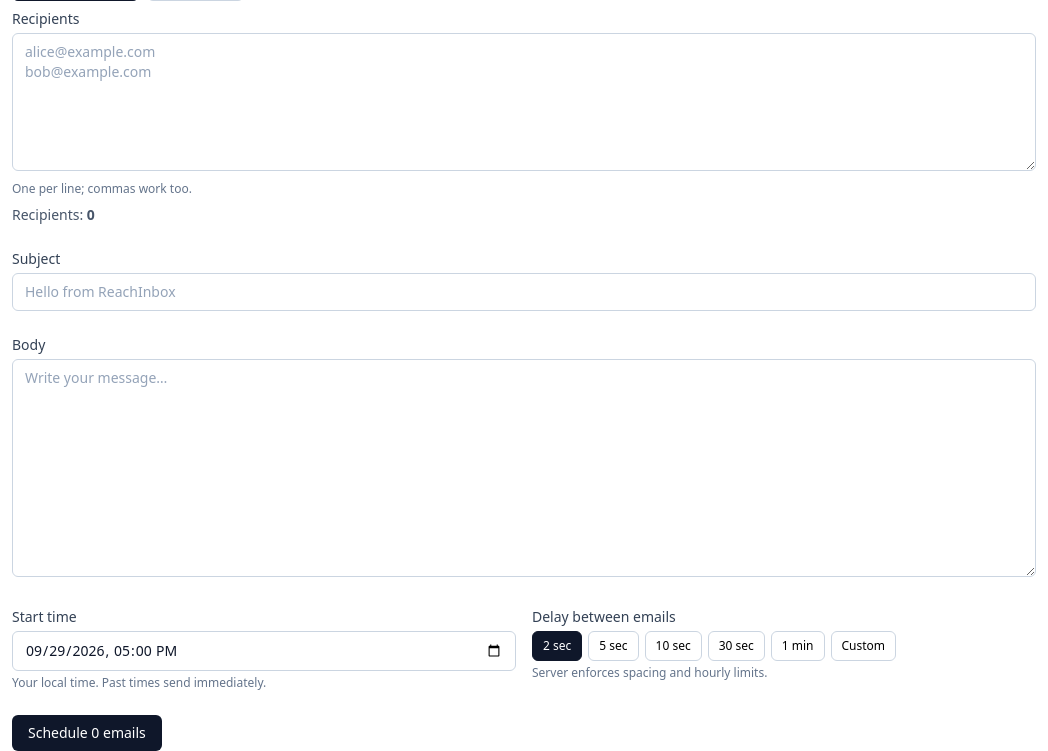
Test case: ComposePage validation › blocks empty submission with field errors
The width and height of the screenshot is (1048, 751).
(page scrolled)
Click the button "Schedule 0 emails": {"x": 87, "y": 733} [12,715,162,750]
(page scrolled)
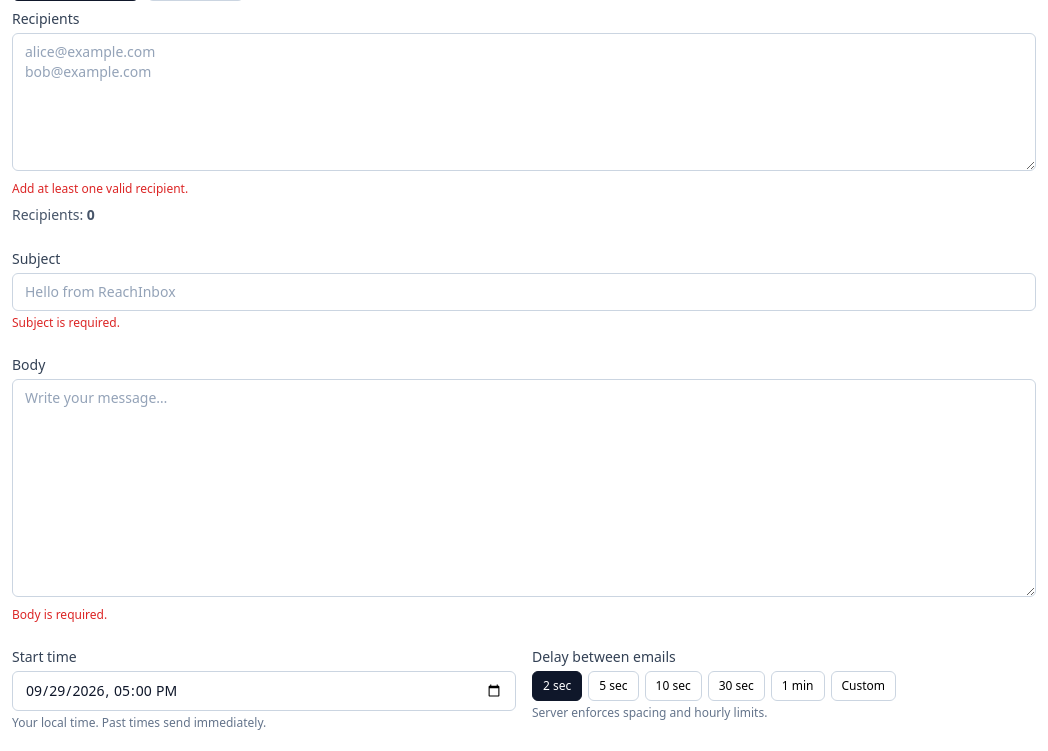
Now the text "Subject is required." is shown, box [12,314,120,331]
Now the text "Body is required." is shown, box [12,606,107,623]
Now the text "Add at least one valid recipient." is shown, box [12,180,188,197]
